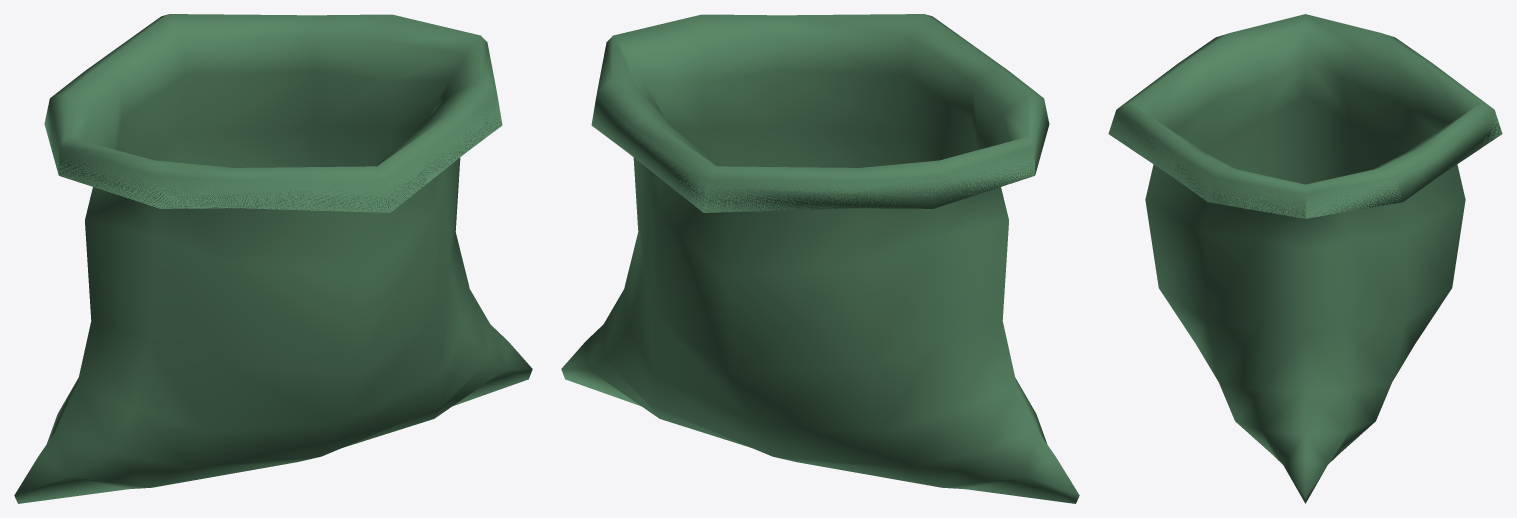
Rendered from sackswb.fbx.
3 views of the same model, side by side, from view 1: azimuth 30°, elevation 25°; view 2: azimuth 150°, elevation 25°; view 3: azimuth 270°, elevation 25° (orthographic). The views are drawn at different scales.
Visible parts, largest first — view 1: ceyrek cuval; view 2: ceyrek cuval; view 3: ceyrek cuval.
Boxes of the visible parts, <box> form: ceyrek cuval: <box>14,14,532,503</box>; ceyrek cuval: <box>561,14,1079,503</box>; ceyrek cuval: <box>1108,14,1502,503</box>.
Bounding box in the file's own units: 155 × 107 × 121.
